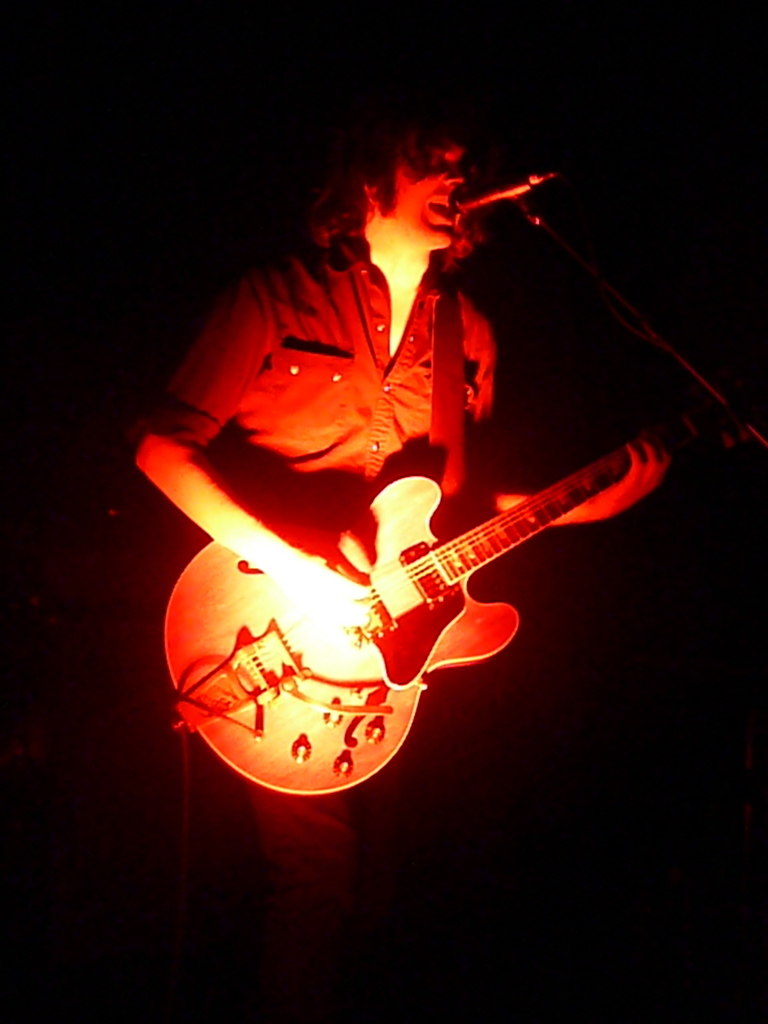Person: (126, 124, 670, 910)
